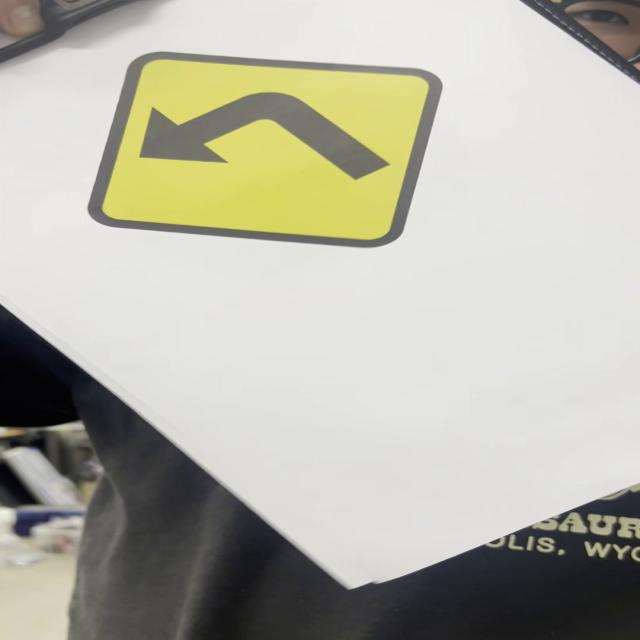left: (95, 52, 448, 246)
